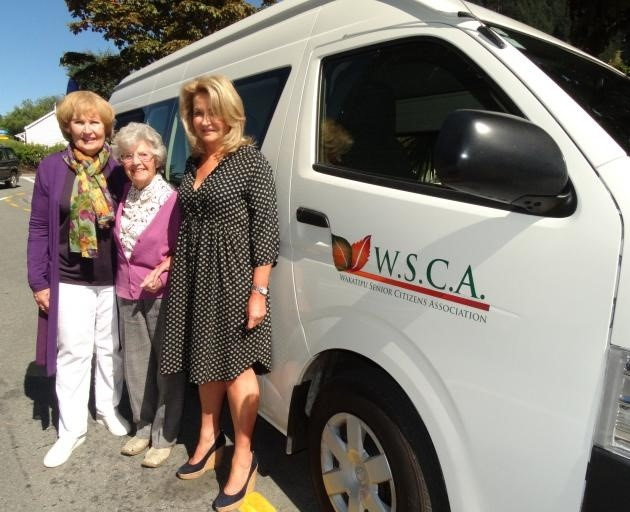face_no_mask: (176, 76, 242, 145), (58, 93, 114, 153), (119, 128, 159, 187)
